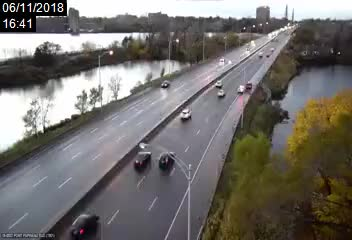personal_car: (69, 211, 99, 239), (132, 149, 152, 170), (160, 149, 175, 168), (179, 107, 193, 121), (160, 79, 169, 88), (215, 79, 223, 88), (236, 84, 244, 93), (216, 89, 225, 96), (218, 58, 224, 64)
